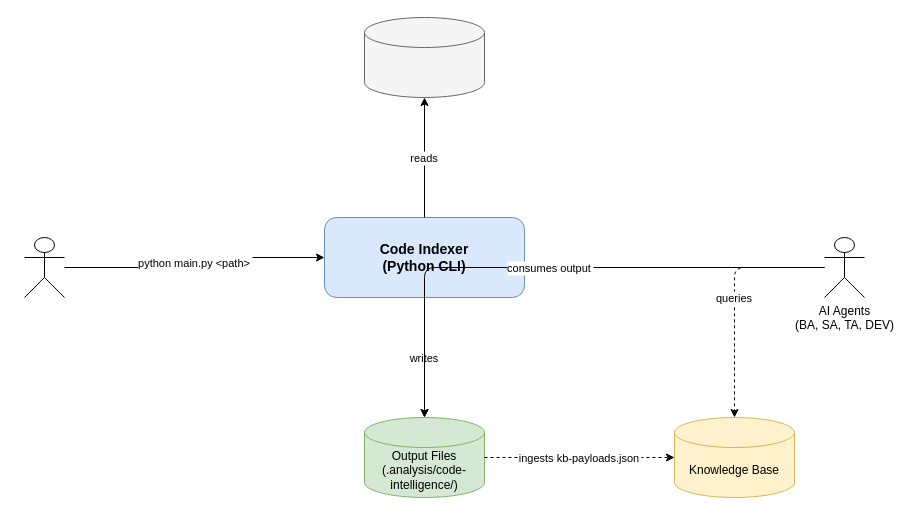
Image size: 911x515. Some labels were removed from this diagram. The centre of each missing label's shape, as x and y in pixels:
Developer: the point at 44,267
Source Code (Filesystem): the point at 424,57
